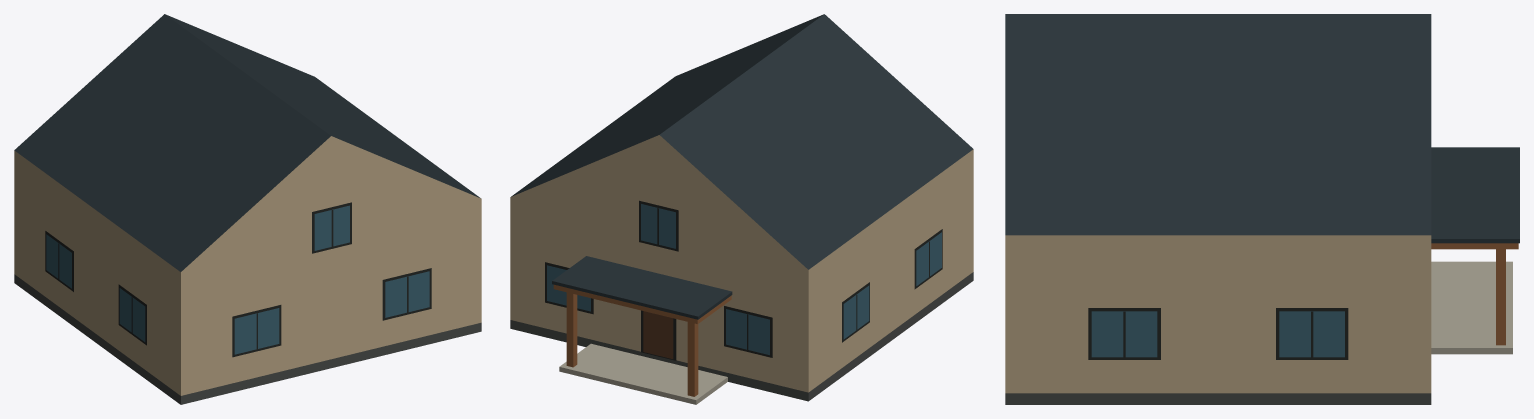
3 renders of one model, left to right at view 1: azimuth 30°, elevation 25°; view 2: azimuth 150°, elevation 25°; view 3: azimuth 270°, elevation 25°, orthographic. The views are drawn at different scales.
Bounding box in the file's own units: 9.94 × 7.23 × 11.42.
